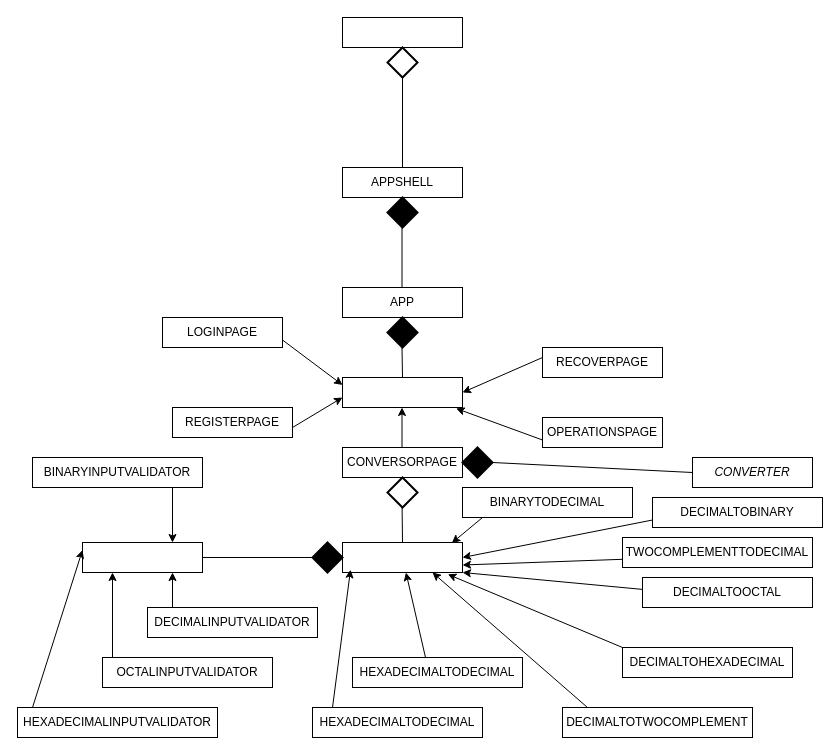
Some shapes in this 840 by 755 pixel diagram are drawn without their labels. Here are the shapes that lost their labels. From the top down, the box of each, then its label:
(342, 16, 462, 48): PROGRAM
(342, 376, 462, 408): CONTENTS PAGE
(82, 542, 202, 572): INPUTVALIDATOR
(342, 542, 462, 572): CONVERSION
